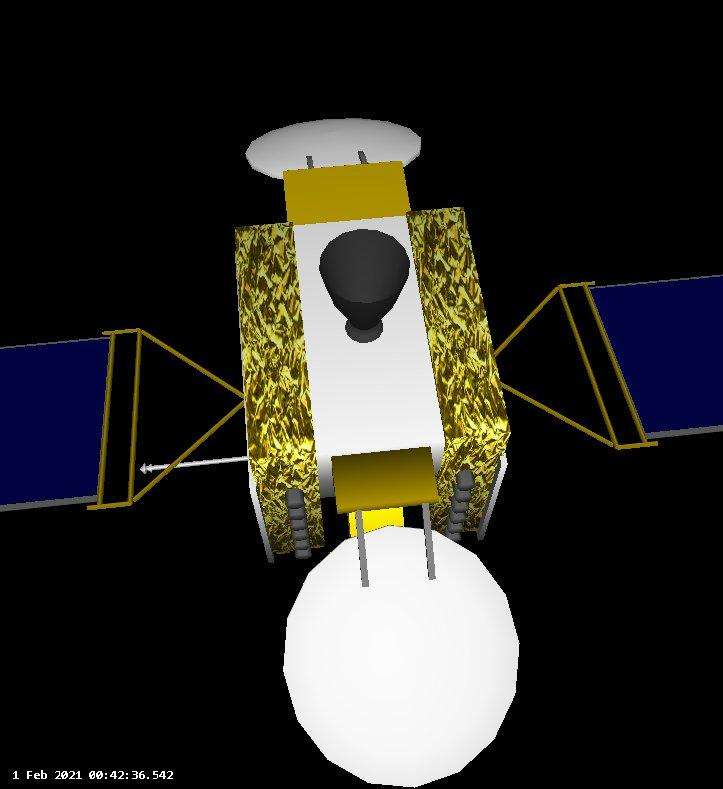antenna: (277, 523, 524, 787), (245, 115, 425, 178), (131, 451, 252, 478)
body: (226, 201, 515, 564)
solar: (586, 273, 723, 443), (0, 335, 121, 515)
thruster: (317, 226, 409, 348)
